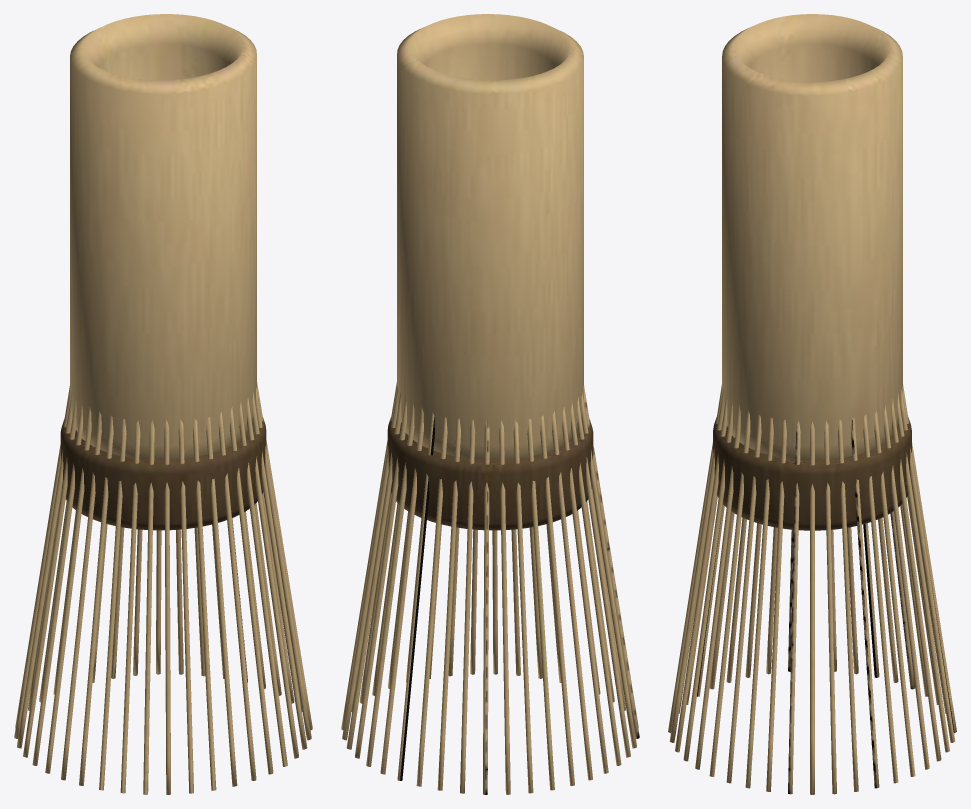
3 renders of one model, left to right at view 1: azimuth 30°, elevation 25°; view 2: azimuth 150°, elevation 25°; view 3: azimuth 270°, elevation 25°, orthographic.
Parts seen in each view (by area): view 1: body; view 2: body; view 3: body.
Boxes of the visible parts, x1,y1,x2,y2 form: body: (14, 14, 312, 794); body: (341, 14, 639, 794); body: (668, 14, 956, 794).
Bounding box in the file's own units: 0.0448 × 0.1124 × 0.043.
Materials: 2 (2 with a texture image).
